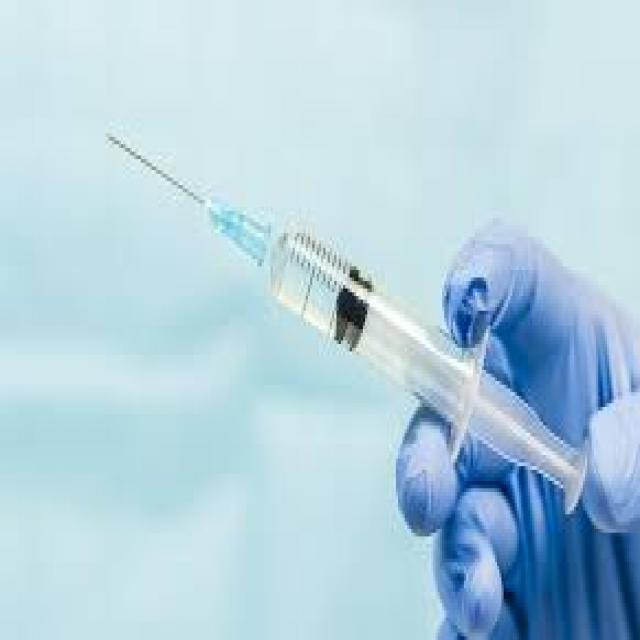syringe: (99, 101, 601, 494)
